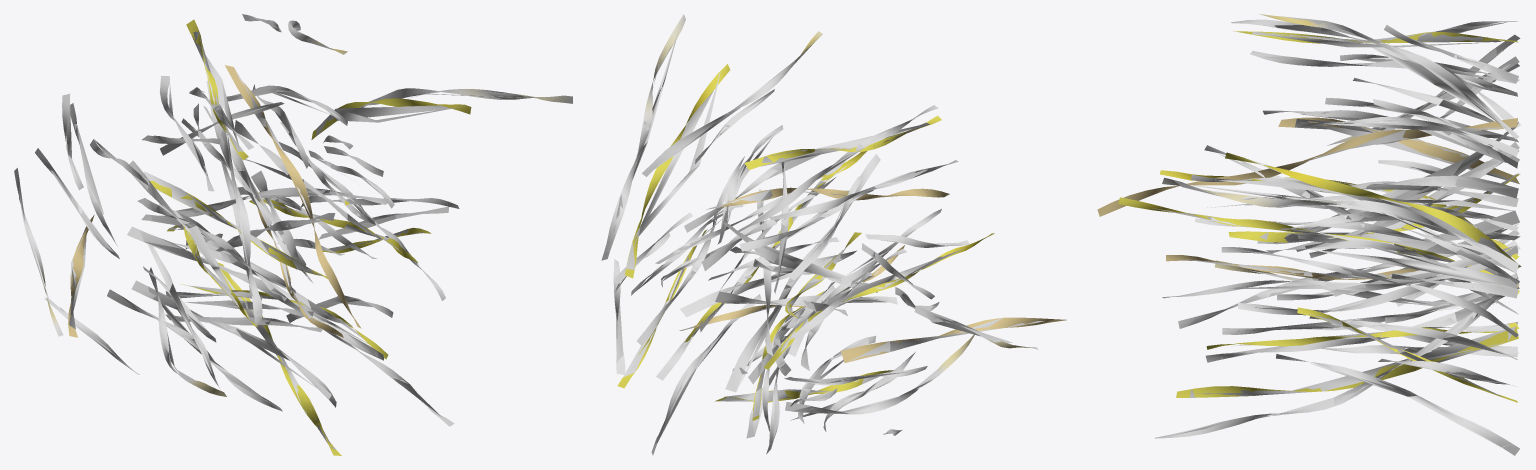
The model's file is seaweed.fbx.
3 renders of one model, left to right at view 1: azimuth 30°, elevation 25°; view 2: azimuth 150°, elevation 25°; view 3: azimuth 270°, elevation 25°, orthographic. The views are drawn at different scales.
Visible parts, largest first — view 1: seaweed3, seaweed2, seaweed4; view 2: seaweed3, seaweed2, seaweed4; view 3: seaweed3, seaweed2, seaweed4.
Part boxes in pixels (x1,y1,x2,y2): seaweed3: (14, 14, 572, 455); seaweed2: (18, 17, 558, 449); seaweed4: (19, 39, 553, 447); seaweed3: (601, 14, 1066, 455); seaweed2: (604, 30, 1044, 444); seaweed4: (615, 28, 1005, 442); seaweed3: (1097, 14, 1521, 455); seaweed2: (1152, 16, 1520, 447); seaweed4: (1189, 22, 1520, 436).
Size of the model in its own units: 85.41 by 66.88 by 62.56.
